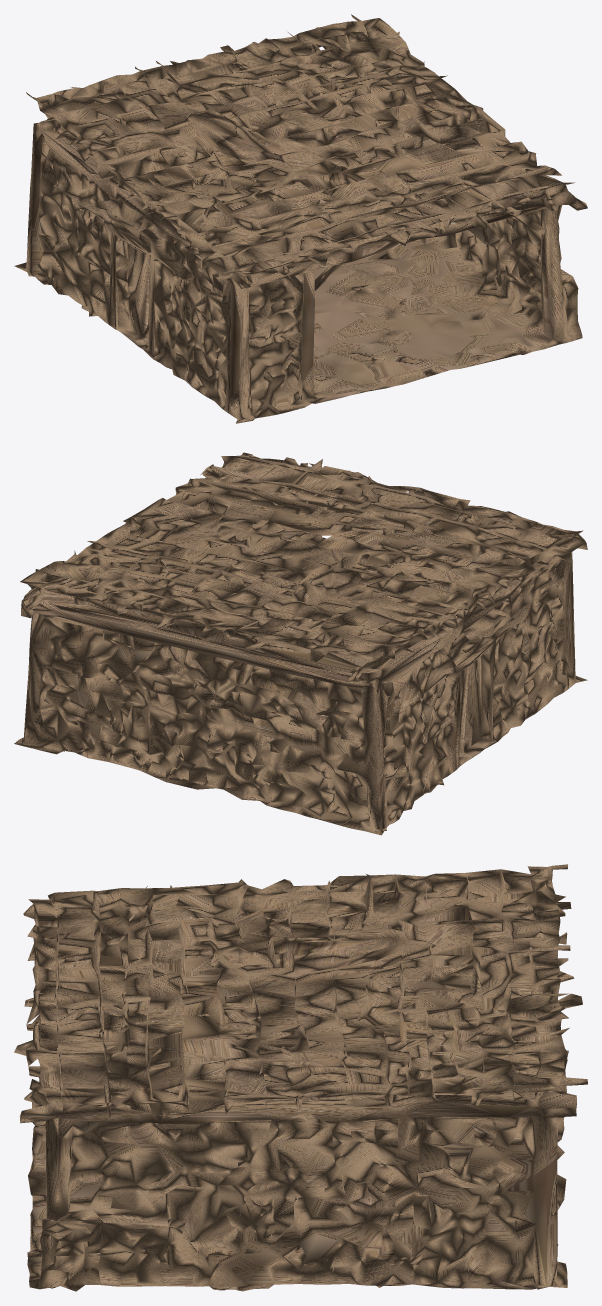
File: square-nativity-stall.glb
The picture shows the model from 3 angles, top to bottom: view 1: azimuth 30°, elevation 25°; view 2: azimuth 150°, elevation 25°; view 3: azimuth 270°, elevation 25°; orthographic projection. The views are drawn at different scales.
Visible parts, largest first — view 1: geometry_0; view 2: geometry_0; view 3: geometry_0.
Boxes of the visible parts, x1,y1,x2,y2 form: geometry_0: (14,14,587,423); geometry_0: (14,452,587,835); geometry_0: (14,864,587,1291).
Size of the model in its own units: 7.03 by 3.21 by 7.52.
Materials: 1 (1 with a texture image).
